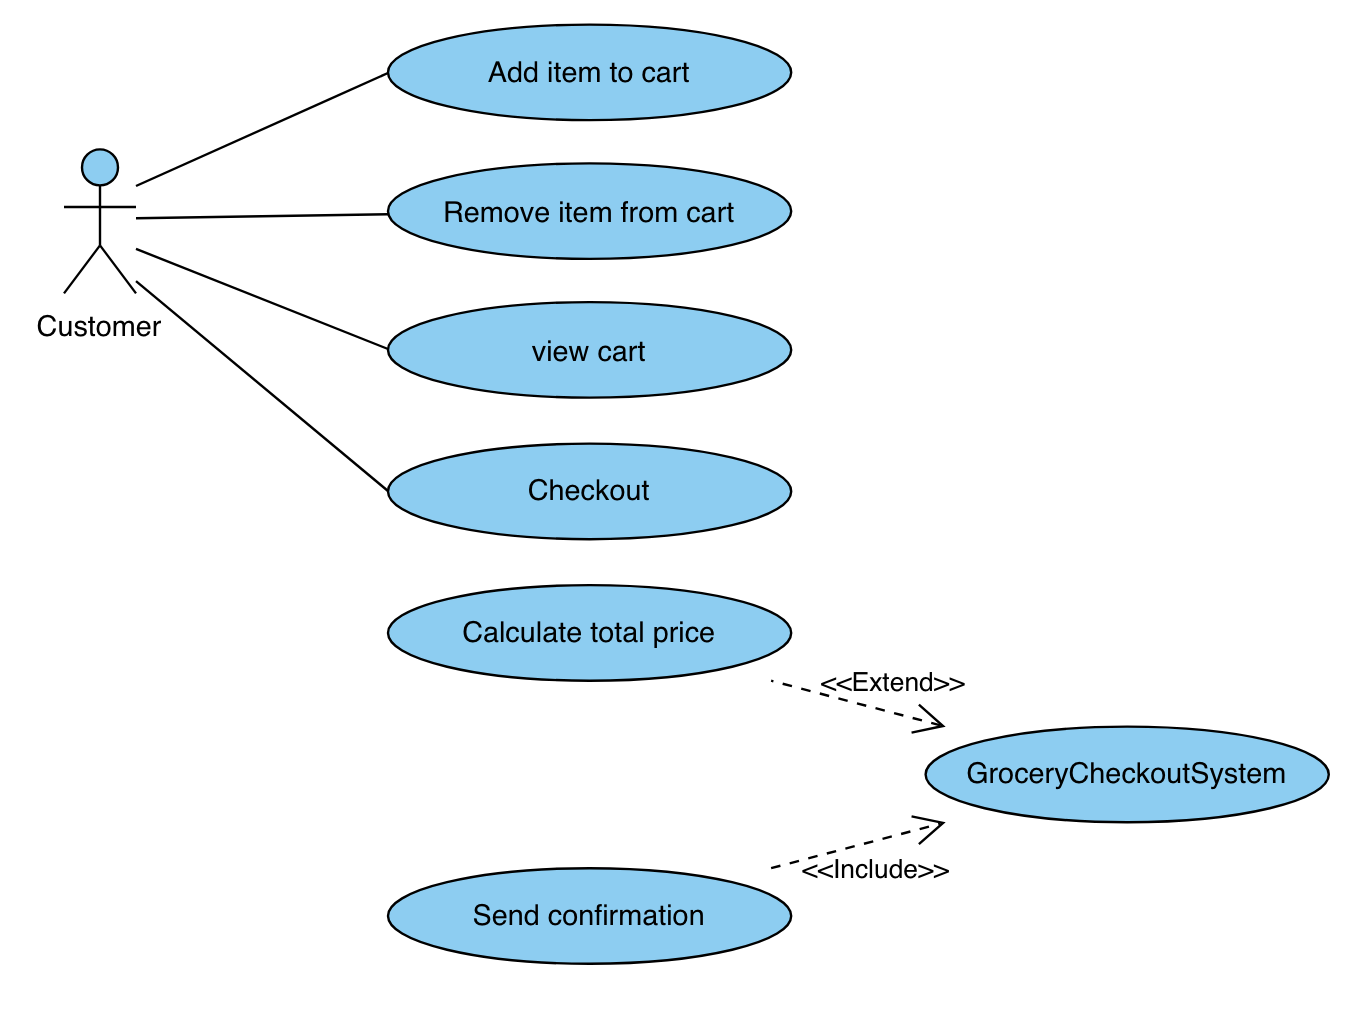actor: (63, 146, 138, 300)
association: (136, 278, 386, 489), (136, 74, 386, 184), (135, 243, 389, 352), (777, 678, 946, 740), (769, 813, 951, 869), (137, 205, 387, 225)
text: (965, 752, 1292, 793), (434, 193, 741, 233), (453, 610, 721, 651), (464, 898, 710, 935), (475, 54, 701, 92), (513, 457, 670, 510), (520, 334, 668, 375), (824, 662, 971, 697), (36, 309, 173, 343), (798, 856, 949, 886)
use_case: (387, 440, 794, 546), (385, 865, 795, 969), (385, 582, 795, 685), (383, 22, 795, 125), (383, 161, 793, 263), (922, 722, 1332, 825), (382, 301, 793, 401)
